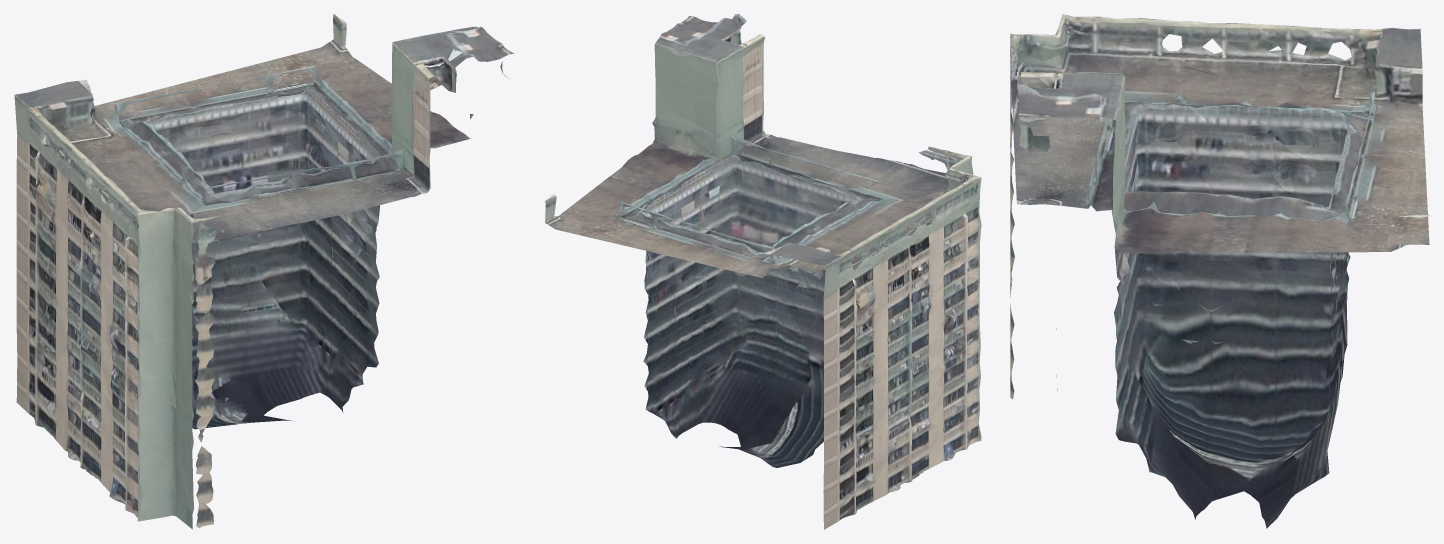
The model's file is Tile_+011_+008_L20_000001010.glb.
The picture shows the model from 3 angles, left to right: view 1: azimuth 30°, elevation 25°; view 2: azimuth 150°, elevation 25°; view 3: azimuth 270°, elevation 25°; orthographic projection. The views are drawn at different scales.
Parts seen in each view (by area): view 1: rtc; view 2: rtc; view 3: rtc.
Part boxes in pixels (box(x1,y1,x2,y2)): rtc: box(14, 14, 514, 529); rtc: box(544, 14, 981, 529); rtc: box(1010, 14, 1429, 528).
Size of the model in its own units: 34.45 by 37.68 by 29.61.
1 material, 1 textured.
